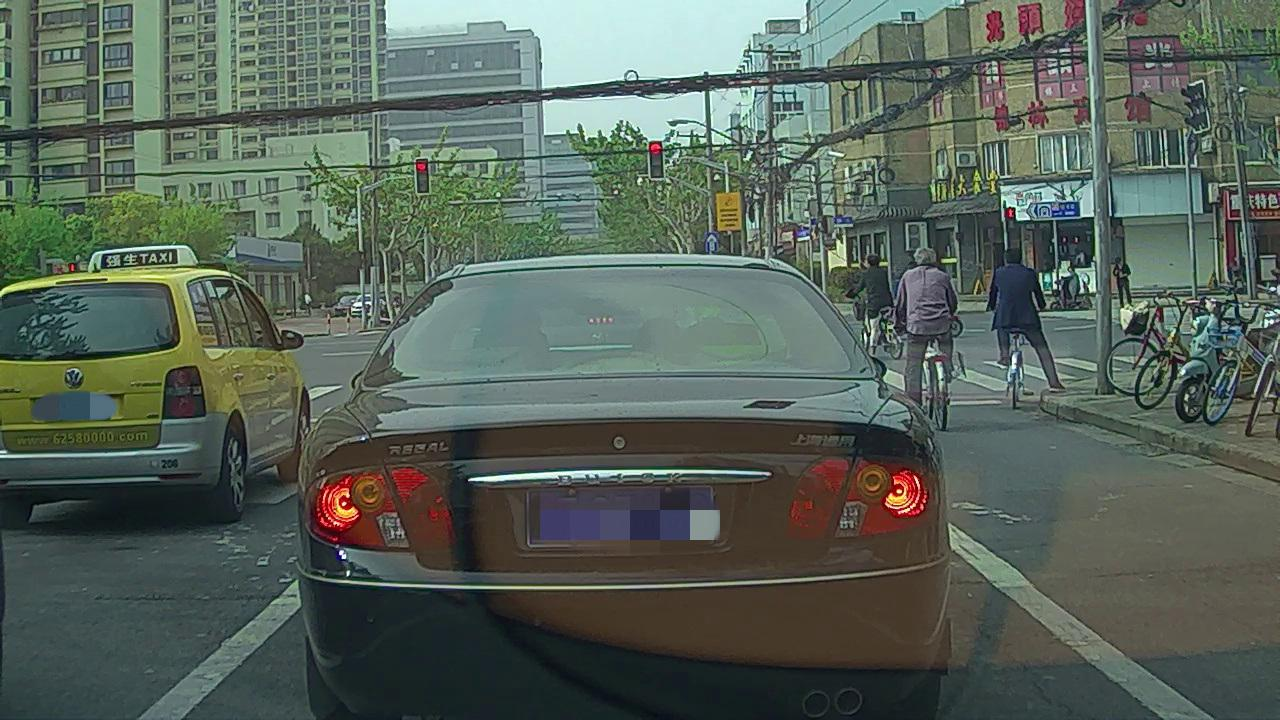traffic_light: (647, 142, 663, 178), (415, 159, 429, 192)
